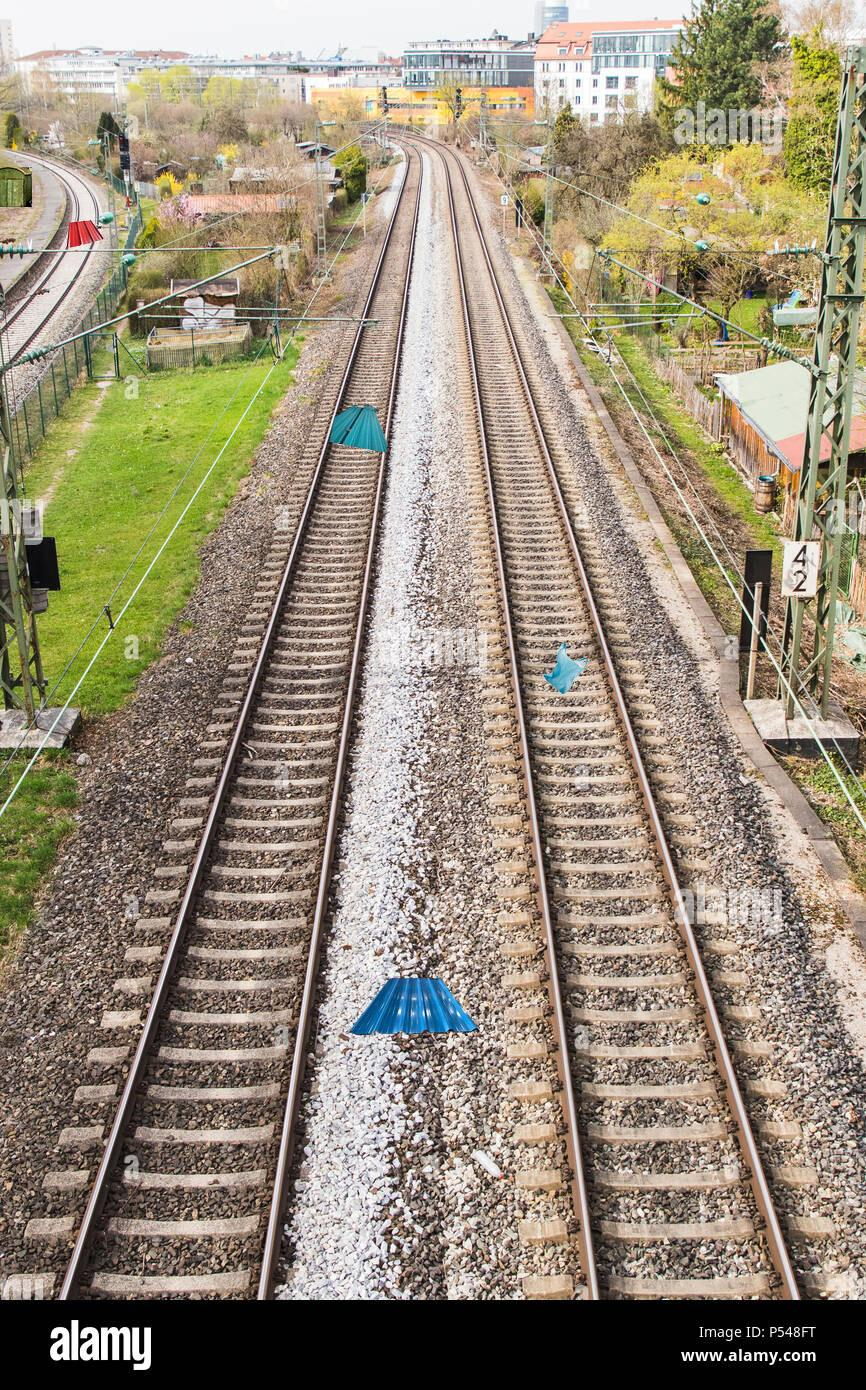Color_steel: (350, 962, 493, 1058), (323, 405, 385, 453)
Plastic: (540, 632, 588, 707)
